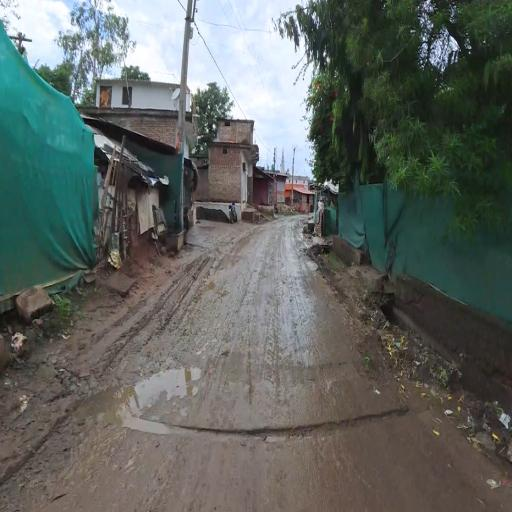longitudinal_crack: (115, 387, 433, 477)
